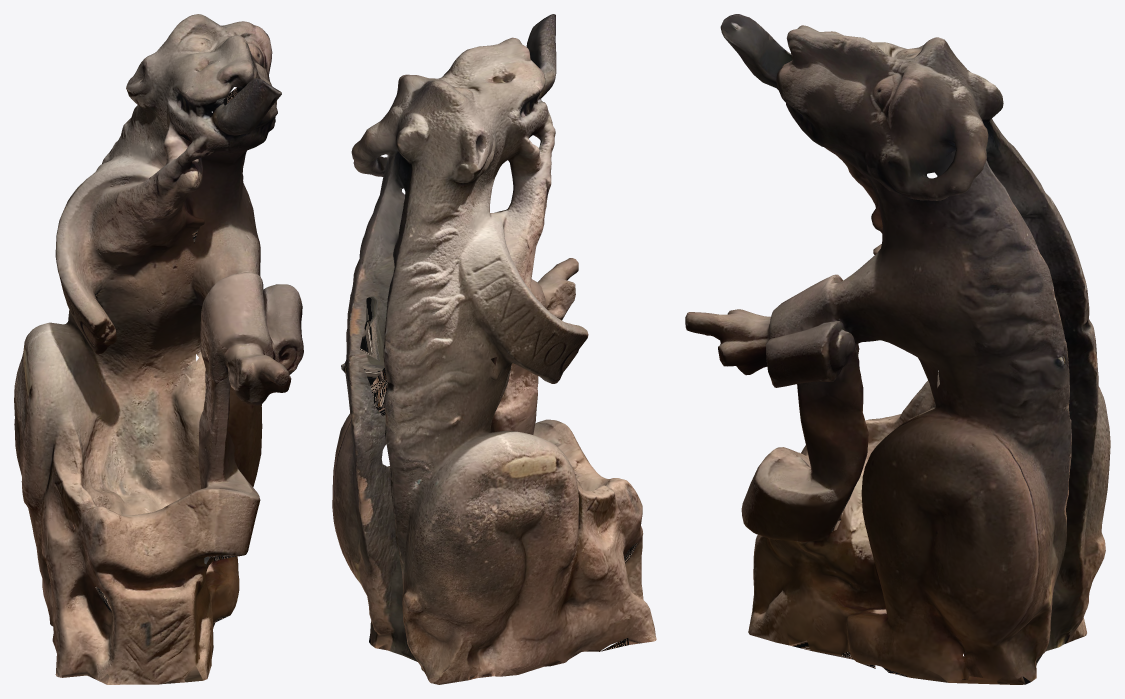
The model's file is 12_devilry.gltf.
The picture shows the model from 3 angles, left to right: view 1: azimuth 30°, elevation 25°; view 2: azimuth 150°, elevation 25°; view 3: azimuth 270°, elevation 25°; orthographic projection. The views are drawn at different scales.
Parts seen in each view (by area): view 1: Mesh_0; view 2: Mesh_0; view 3: Mesh_0.
Part boxes in pixels (x1,y1,x2,y2): Mesh_0: (14, 14, 303, 684); Mesh_0: (332, 14, 656, 684); Mesh_0: (685, 14, 1110, 684).
Size of the model in its own units: 1.35 by 2.9 by 1.73.
6 materials, 6 textured.
